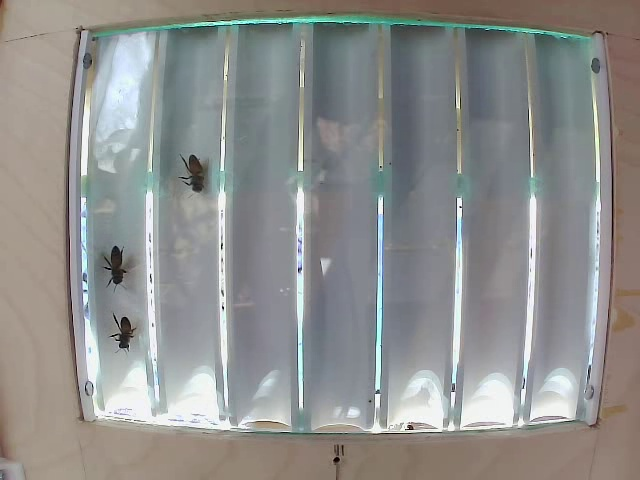bee: (175, 150, 211, 201), (104, 238, 137, 288), (107, 313, 136, 344)
